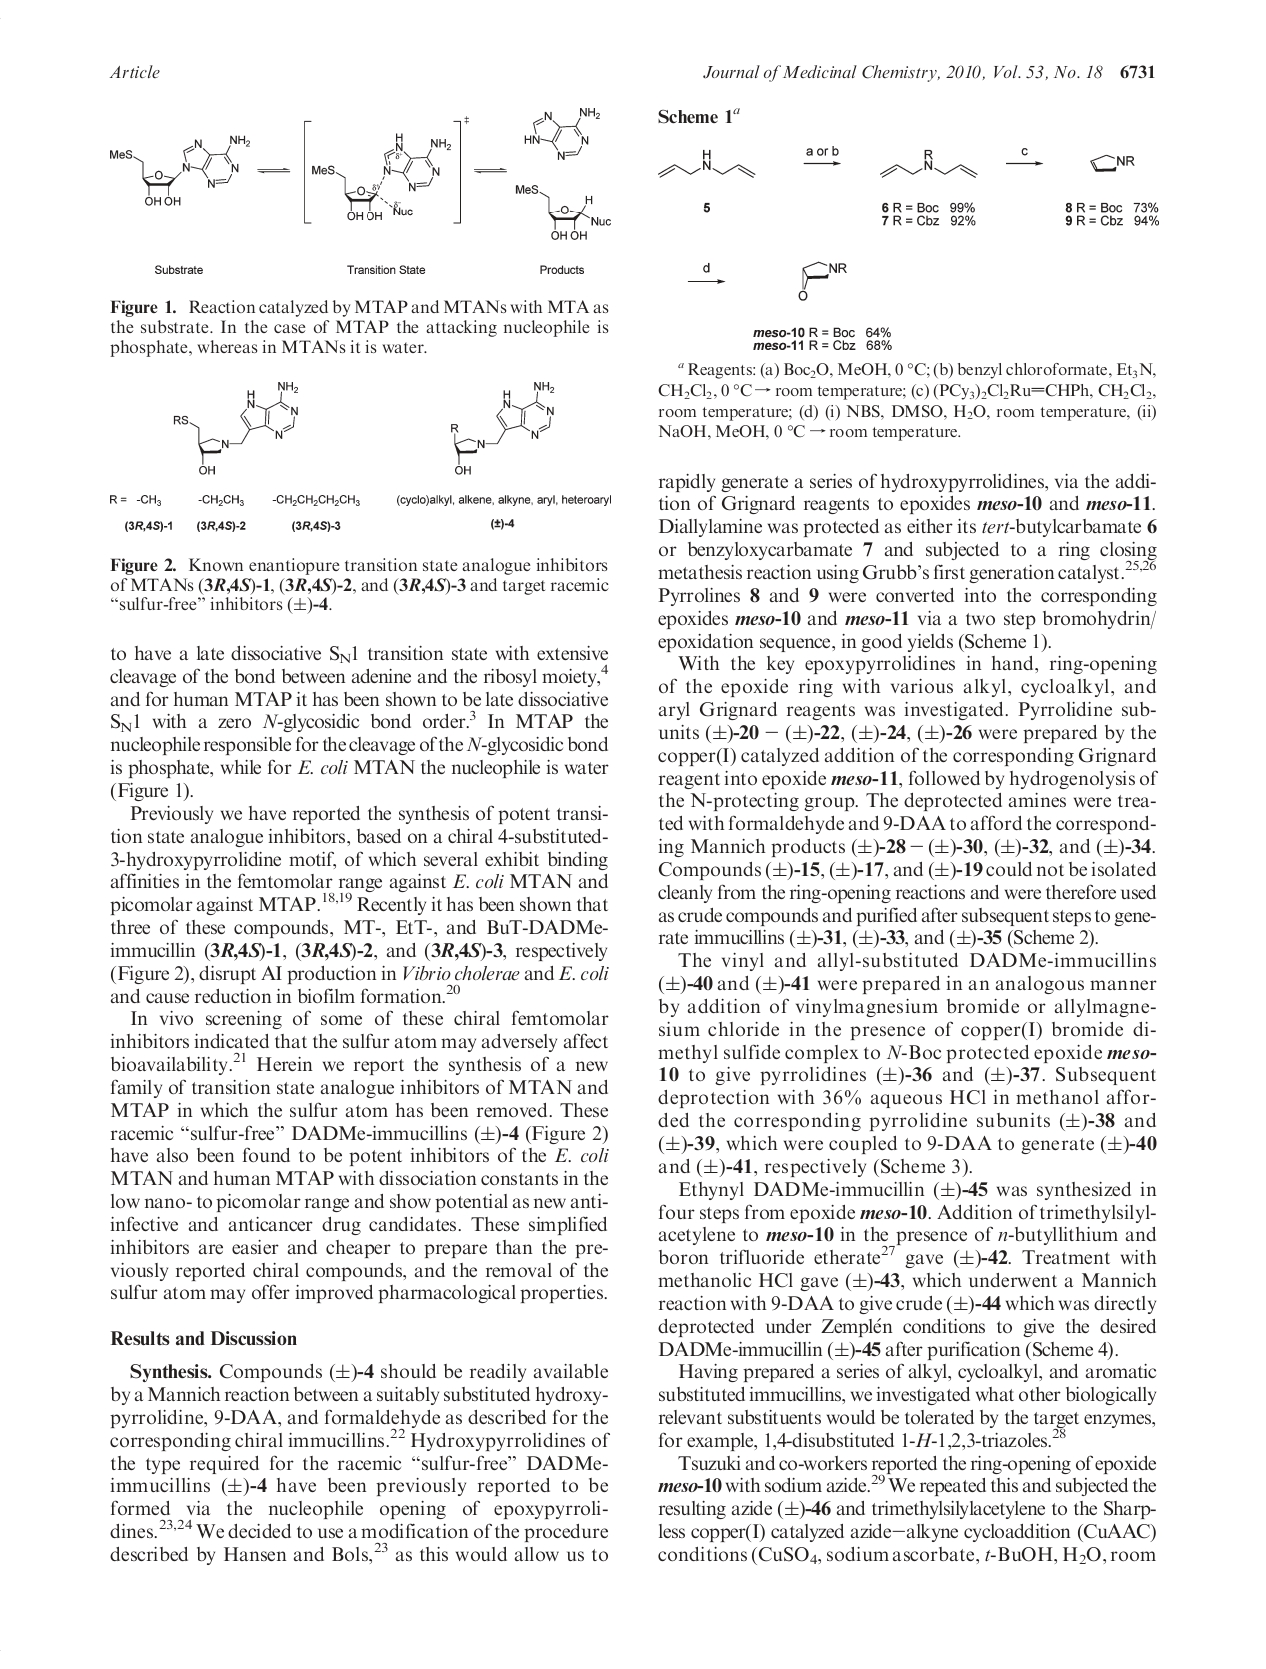exist_molecular: (311, 130, 452, 222), (172, 379, 301, 477), (108, 132, 251, 206), (449, 379, 557, 477), (513, 180, 613, 242), (523, 106, 602, 162), (879, 148, 979, 182), (656, 148, 758, 181), (797, 261, 848, 301), (1089, 152, 1138, 174)
